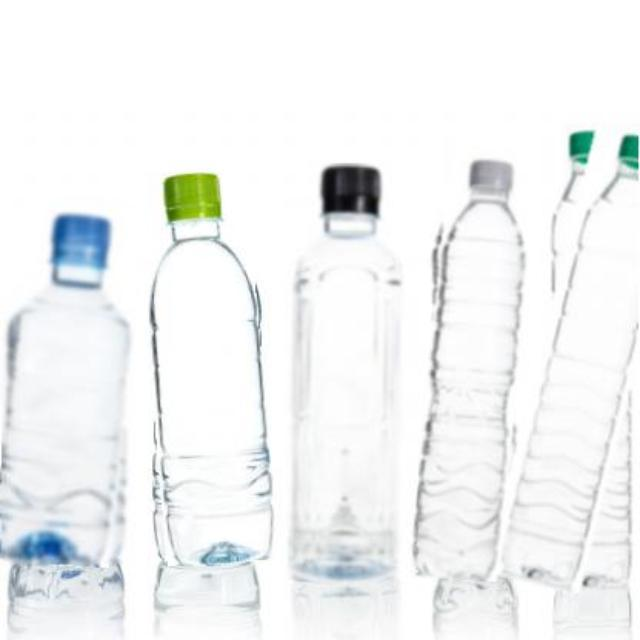Botella de plastico: (505, 140, 640, 581), (0, 215, 129, 639), (150, 174, 272, 609), (414, 161, 524, 578), (291, 165, 401, 579)
